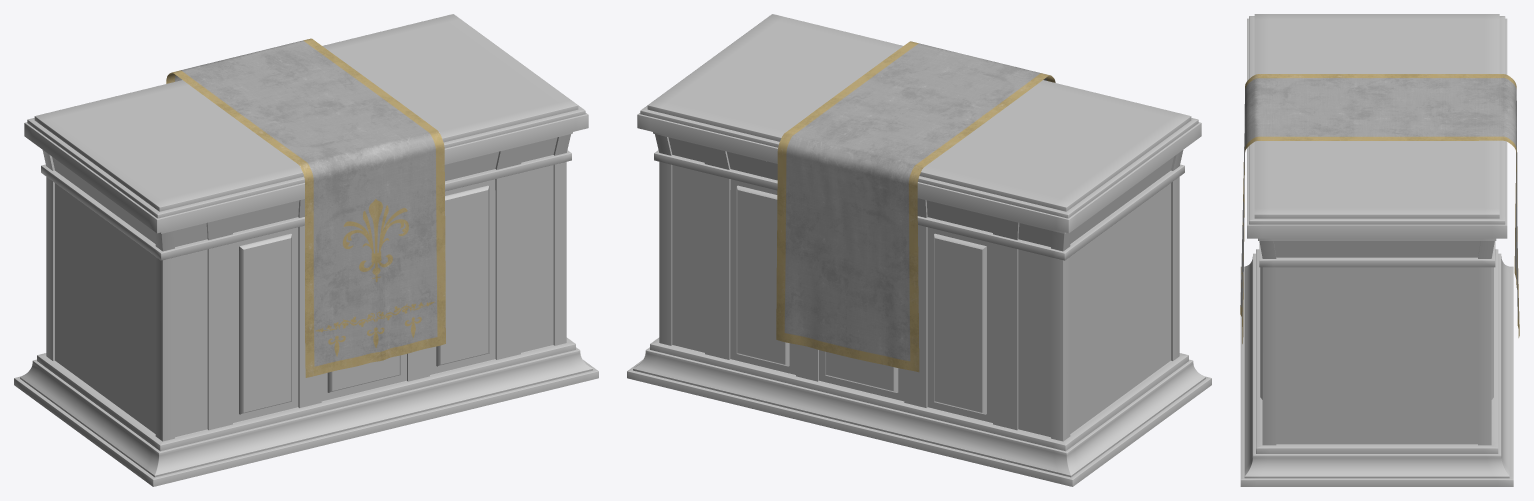
The model's file is Altar.fbx.
The picture shows the model from 3 angles, left to right: view 1: azimuth 30°, elevation 25°; view 2: azimuth 150°, elevation 25°; view 3: azimuth 270°, elevation 25°; orthographic projection.
Parts seen in each view (by area): view 1: simply_coll, simply_cloth; view 2: simply_coll, simply_cloth; view 3: simply_coll, simply_cloth.
Part boxes in pixels (x1,y1,x2,y2): simply_coll: (14, 14, 598, 486); simply_cloth: (166, 38, 445, 377); simply_coll: (627, 14, 1211, 486); simply_cloth: (776, 41, 1055, 372); simply_coll: (1240, 14, 1513, 486); simply_cloth: (1240, 74, 1519, 343).
Bounding box in the file's own units: 44109 × 26336 × 24405.
